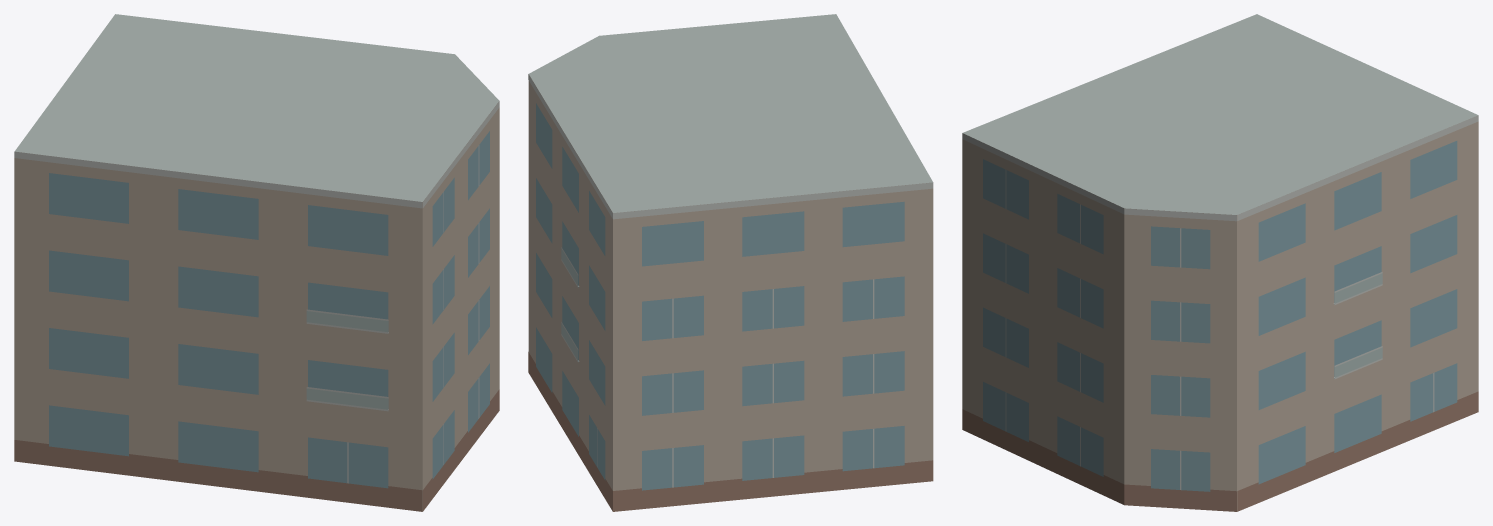
File: survey-upis-32815263.glb
3 renders of one model, left to right at view 1: azimuth 30°, elevation 25°; view 2: azimuth 150°, elevation 25°; view 3: azimuth 270°, elevation 25°, orthographic. The views are drawn at different scales.
Parts seen in each view (by area): view 1: survey-upis-32815263.tmp; view 2: survey-upis-32815263.tmp; view 3: survey-upis-32815263.tmp.
Part boxes in pixels (left/top/right/bottom): survey-upis-32815263.tmp: left=14, top=14, right=499, bottom=511; survey-upis-32815263.tmp: left=528, top=14, right=933, bottom=511; survey-upis-32815263.tmp: left=962, top=14, right=1478, bottom=511.
Size of the model in its own units: 17.01 by 11.7 by 18.45.
